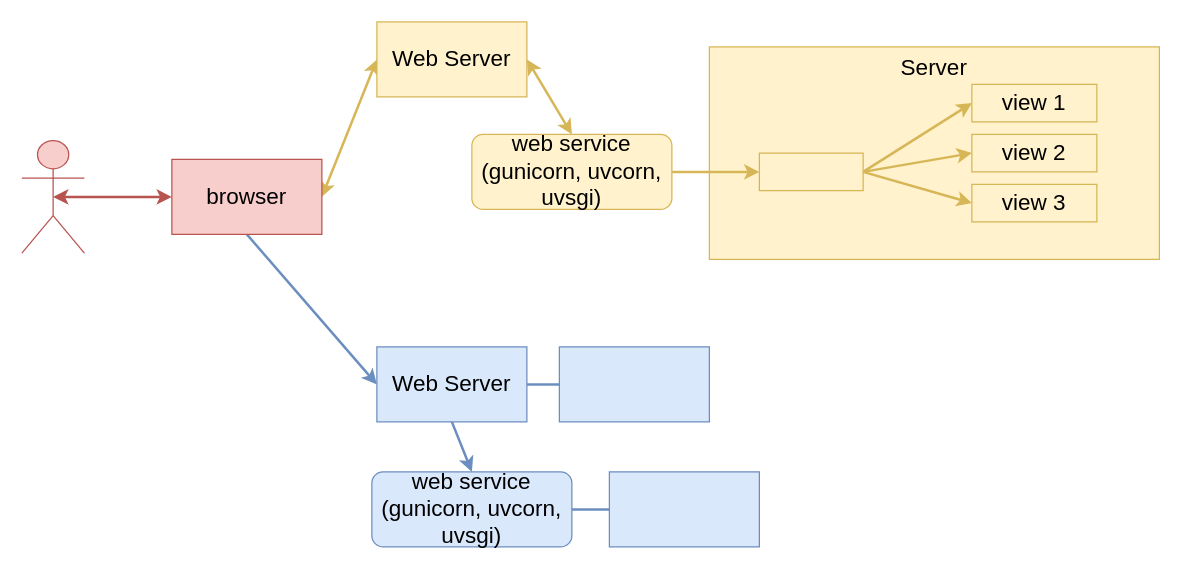
The diagram is 1181 pixels wide and 571 high, and some of its shapes have lost their labels. The shapes that lost their labels are listed below. From the top down, each one's box as (x1, y1, x2, y2) in pixels, then its label:
(758, 152, 863, 191): urls
(21, 139, 84, 253): Actor
(558, 346, 709, 422): frontend
(608, 471, 759, 547): backend
